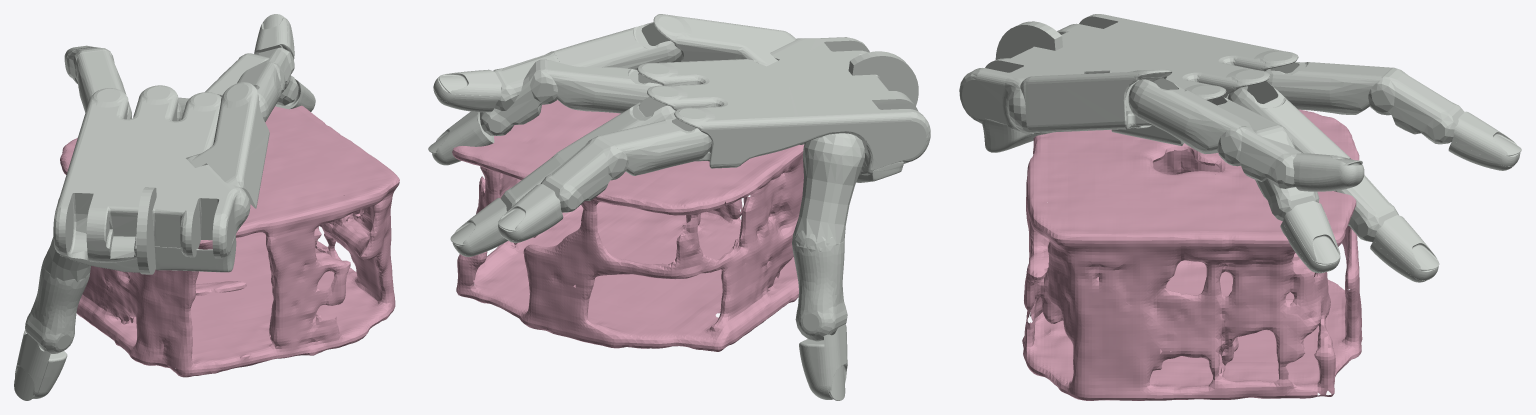
3 renders of one model, left to right at view 1: azimuth 30°, elevation 25°; view 2: azimuth 150°, elevation 25°; view 3: azimuth 270°, elevation 25°, orthographic. The views are drawn at different scales.
Parts seen in each view (by area): view 1: hand_isaac_q, world; view 2: hand_isaac_q, world; view 3: world, hand_isaac_q.
Part boxes in pixels (left/top/right/bottom): hand_isaac_q: left=14, top=14, right=315, bottom=400; world: left=60, top=105, right=399, bottom=377; hand_isaac_q: left=428, top=14, right=930, bottom=400; world: left=452, top=100, right=803, bottom=351; world: left=1022, top=109, right=1362, bottom=400; hand_isaac_q: left=959, top=14, right=1521, bottom=282.
Bounding box in the file's own units: 0.1869 × 0.1424 × 0.2176.
